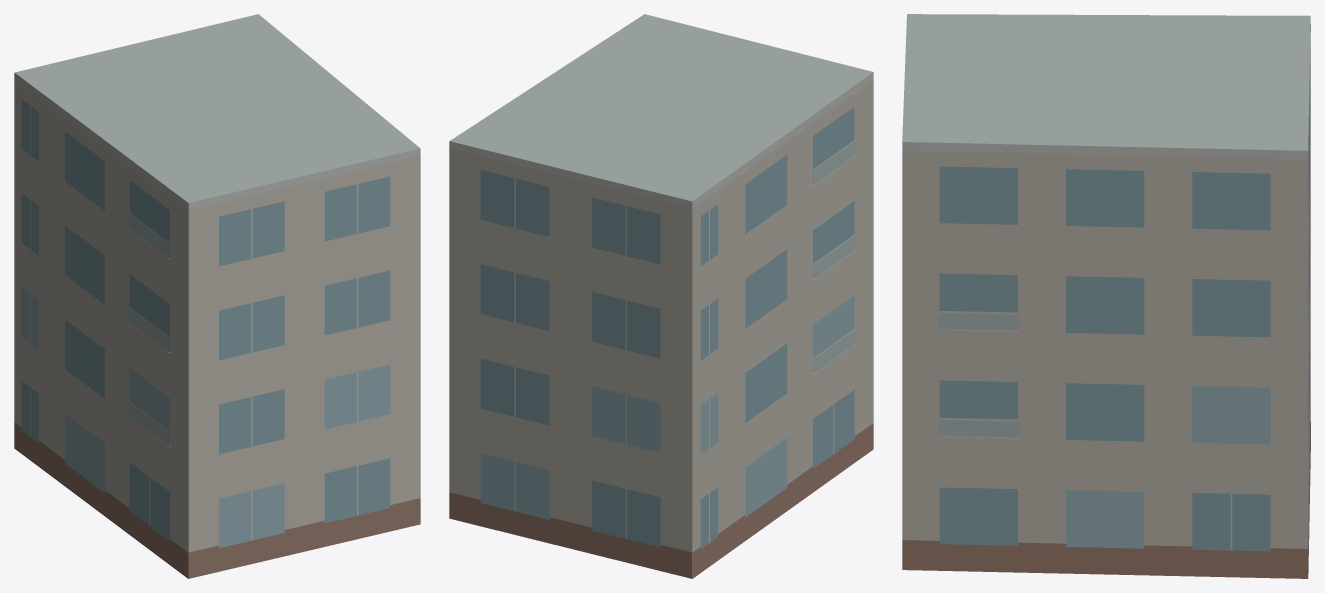
The model's file is residential-4d5e8248-454b-4118-9113-41d4f2128f93.glb.
3 renders of one model, left to right at view 1: azimuth 30°, elevation 25°; view 2: azimuth 150°, elevation 25°; view 3: azimuth 270°, elevation 25°, orthographic. The views are drawn at different scales.
Visible parts, largest first — view 1: residential-4d5e8248-454b-4118-9113-41d4f2128f93.tmp; view 2: residential-4d5e8248-454b-4118-9113-41d4f2128f93.tmp; view 3: residential-4d5e8248-454b-4118-9113-41d4f2128f93.tmp.
Boxes of the visible parts, <box> form: residential-4d5e8248-454b-4118-9113-41d4f2128f93.tmp: <box>14,14,420,578</box>; residential-4d5e8248-454b-4118-9113-41d4f2128f93.tmp: <box>449,14,873,578</box>; residential-4d5e8248-454b-4118-9113-41d4f2128f93.tmp: <box>902,14,1310,578</box>.
Size of the model in its own units: 8.4 by 12.2 by 10.57.
